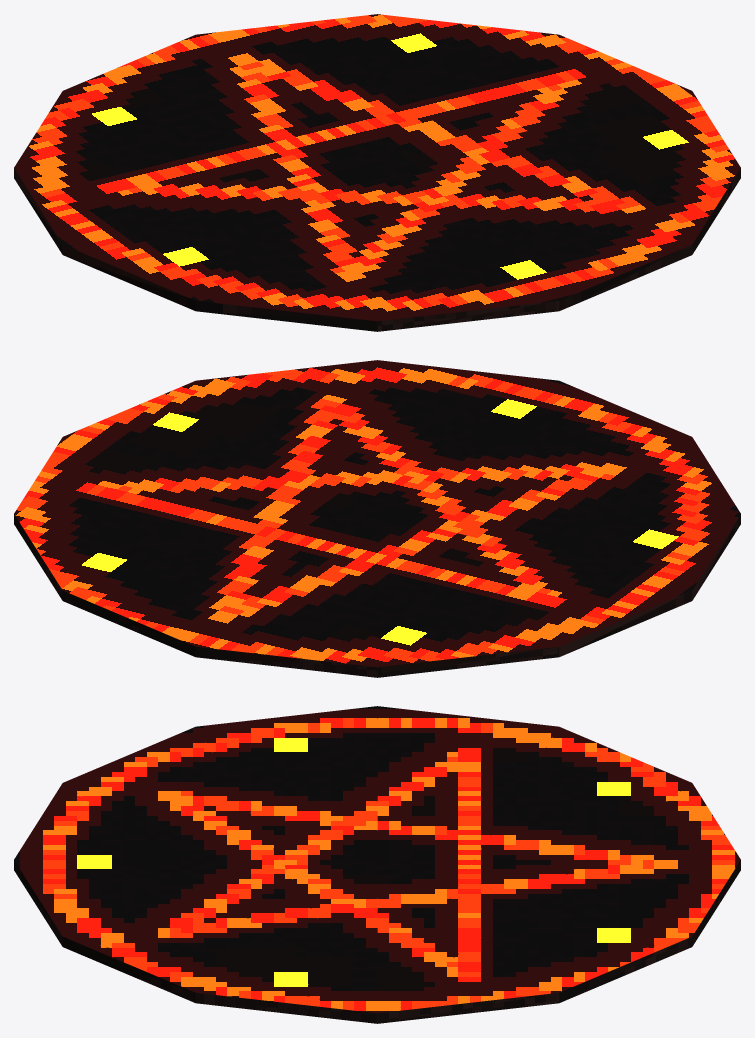
The model's file is demon_pad.glb.
3 renders of one model, top to bottom at view 1: azimuth 30°, elevation 25°; view 2: azimuth 150°, elevation 25°; view 3: azimuth 270°, elevation 25°, orthographic.
Parts seen in each view (by area): view 1: DemonPad; view 2: DemonPad; view 3: DemonPad.
Boxes of the visible parts, x1,y1,x2,y2 form: DemonPad: [14, 14, 740, 331]; DemonPad: [14, 360, 740, 677]; DemonPad: [14, 706, 740, 1023].
Size of what is drawn, in the model's own units: 2.5 by 0.04 by 2.5.
1 material, 1 textured.
